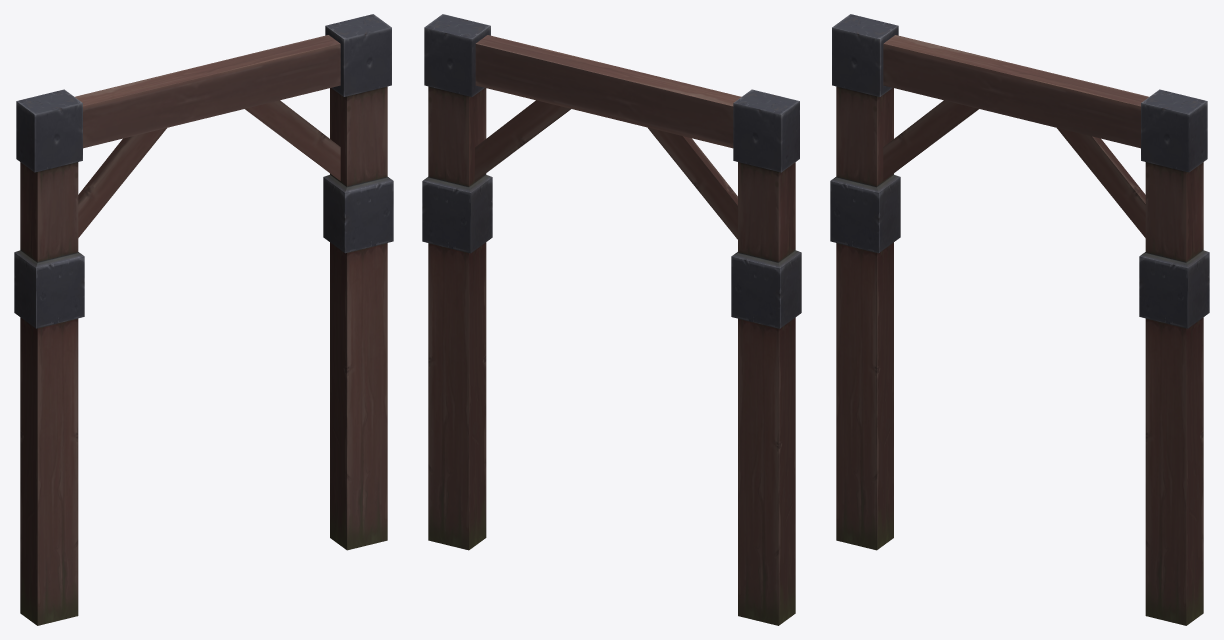
Rendered from scene_malujiakuangdao_wooddoor02.FBX.
3 views of the same model, side by side, from view 1: azimuth 30°, elevation 25°; view 2: azimuth 150°, elevation 25°; view 3: azimuth 330°, elevation 25° (orthographic).
Parts seen in each view (by area): view 1: scene_malujiakuangdao_wooddoor02; view 2: scene_malujiakuangdao_wooddoor02; view 3: scene_malujiakuangdao_wooddoor02.
Boxes of the visible parts, bbox=[...] form: scene_malujiakuangdao_wooddoor02: bbox=[14, 14, 393, 625]; scene_malujiakuangdao_wooddoor02: bbox=[422, 14, 801, 625]; scene_malujiakuangdao_wooddoor02: bbox=[830, 14, 1209, 625].
Size of the model in its own units: 234 by 321 by 24.77.
